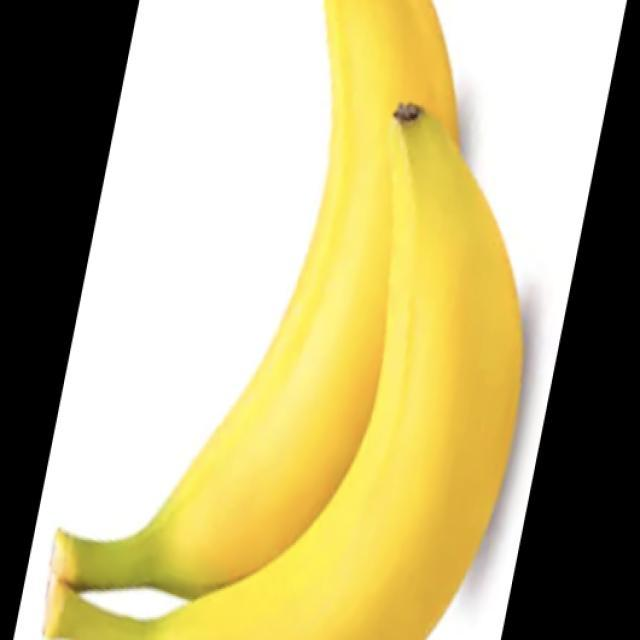Banana: (39, 0, 525, 639)
